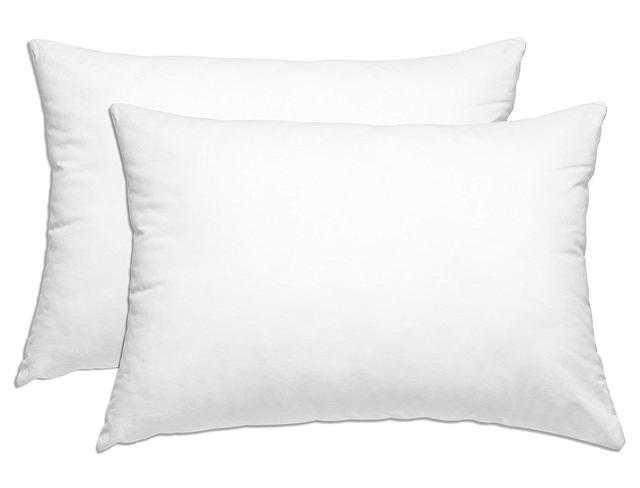pillow: (94, 97, 626, 454)
